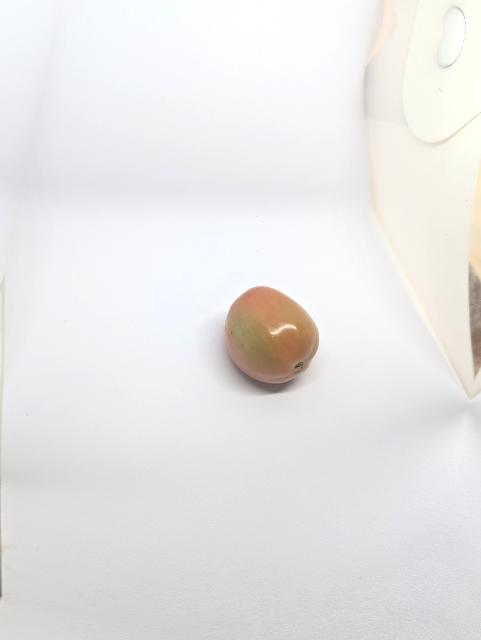turning: (220, 282, 325, 388)
